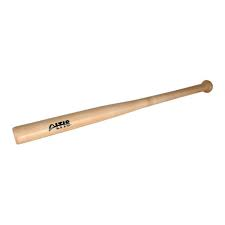baseball bat: (10, 78, 216, 145)
